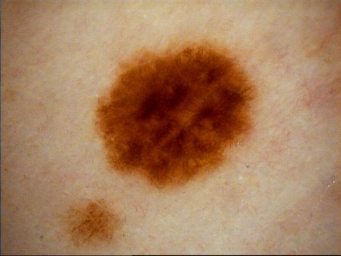nevus: (91, 44, 258, 189), (66, 198, 122, 242)
